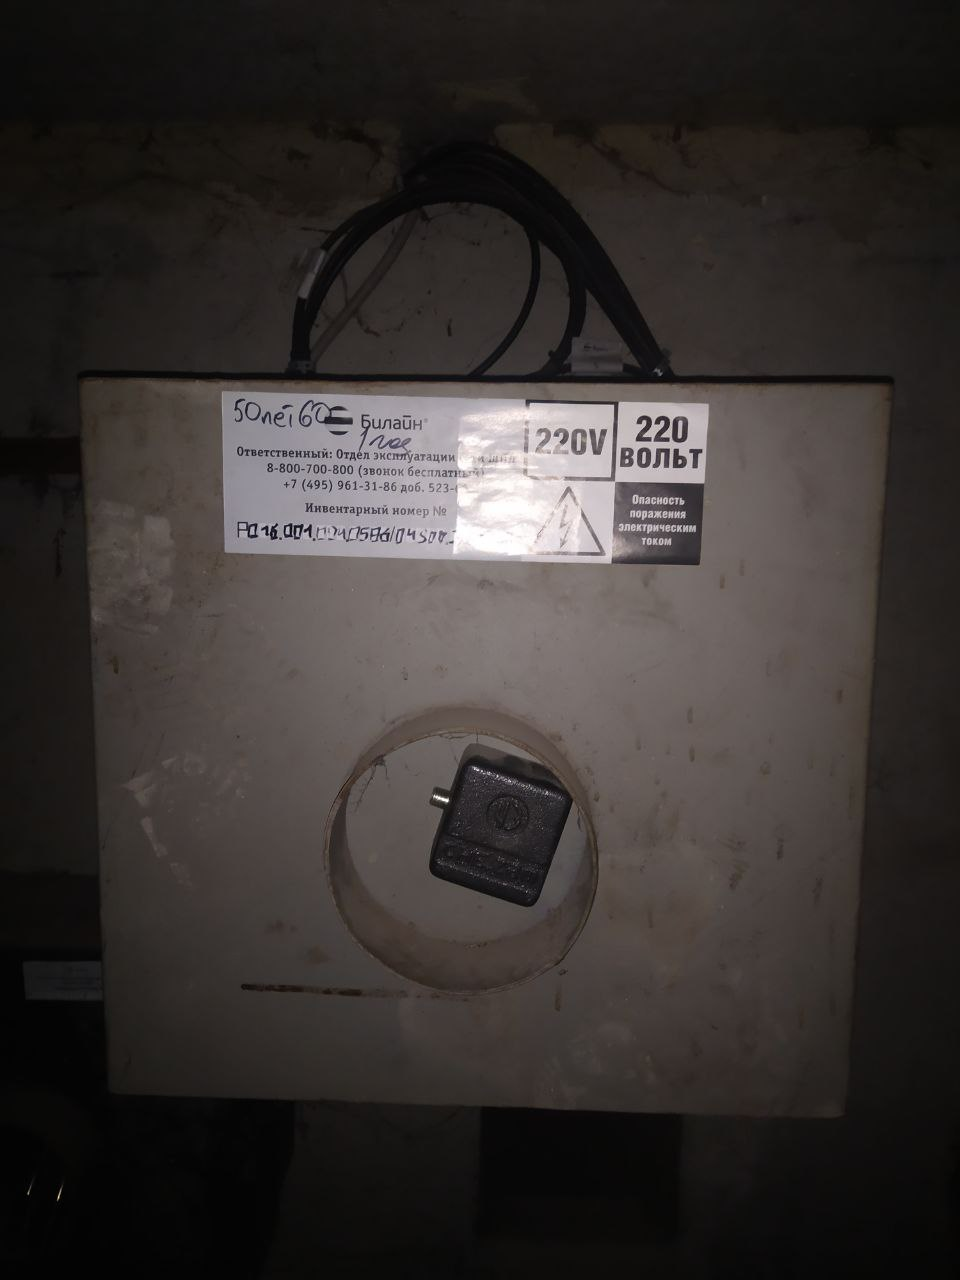shta-9: (62, 356, 906, 1133)
